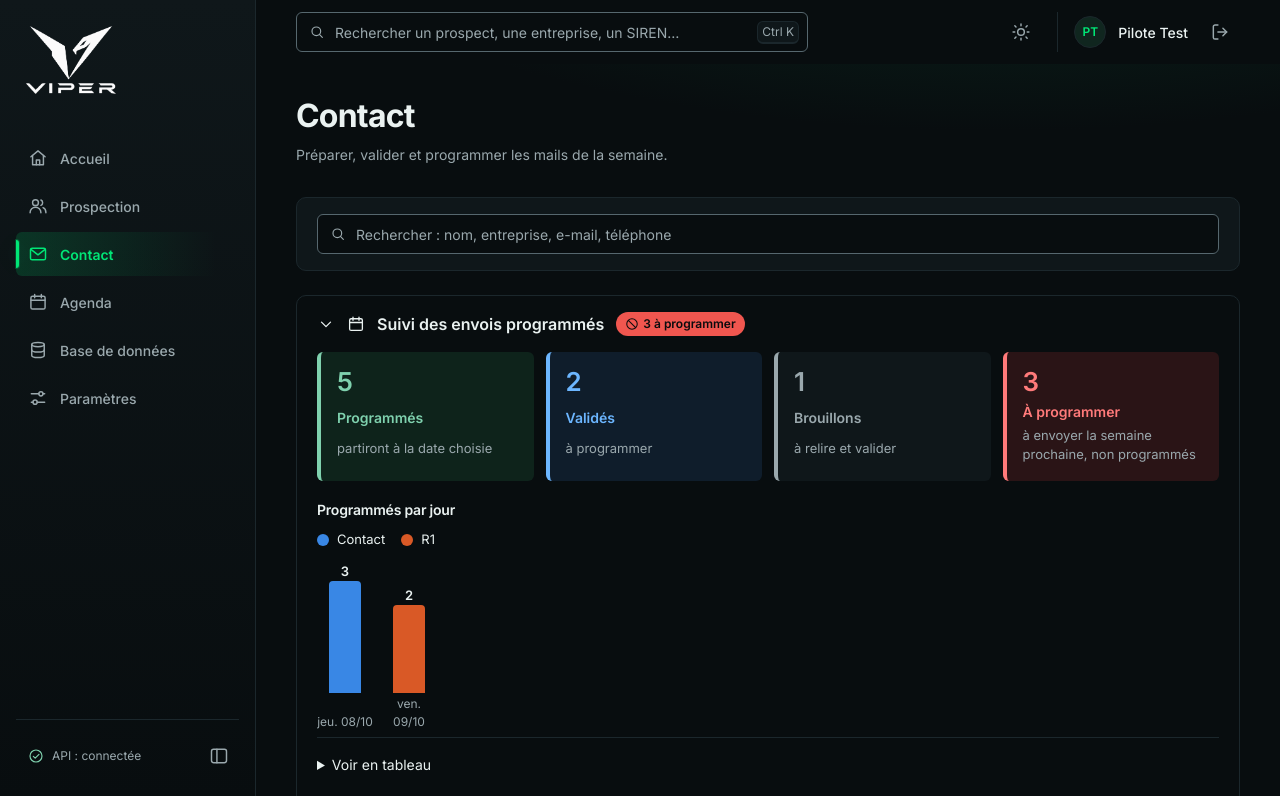
Test: Contact › Suivi des envois programmés › counts what is scheduled, validated and in draft, by step and by day, and names who was forgotten
Check: the text "3 à programmer" is shown, box [616,312,745,336]
Check: the text "5" is shown, box [337,366,353,397]
Click the button "À programmer" at (1111, 416), box [1002,352,1219,481]
(page scrolled)
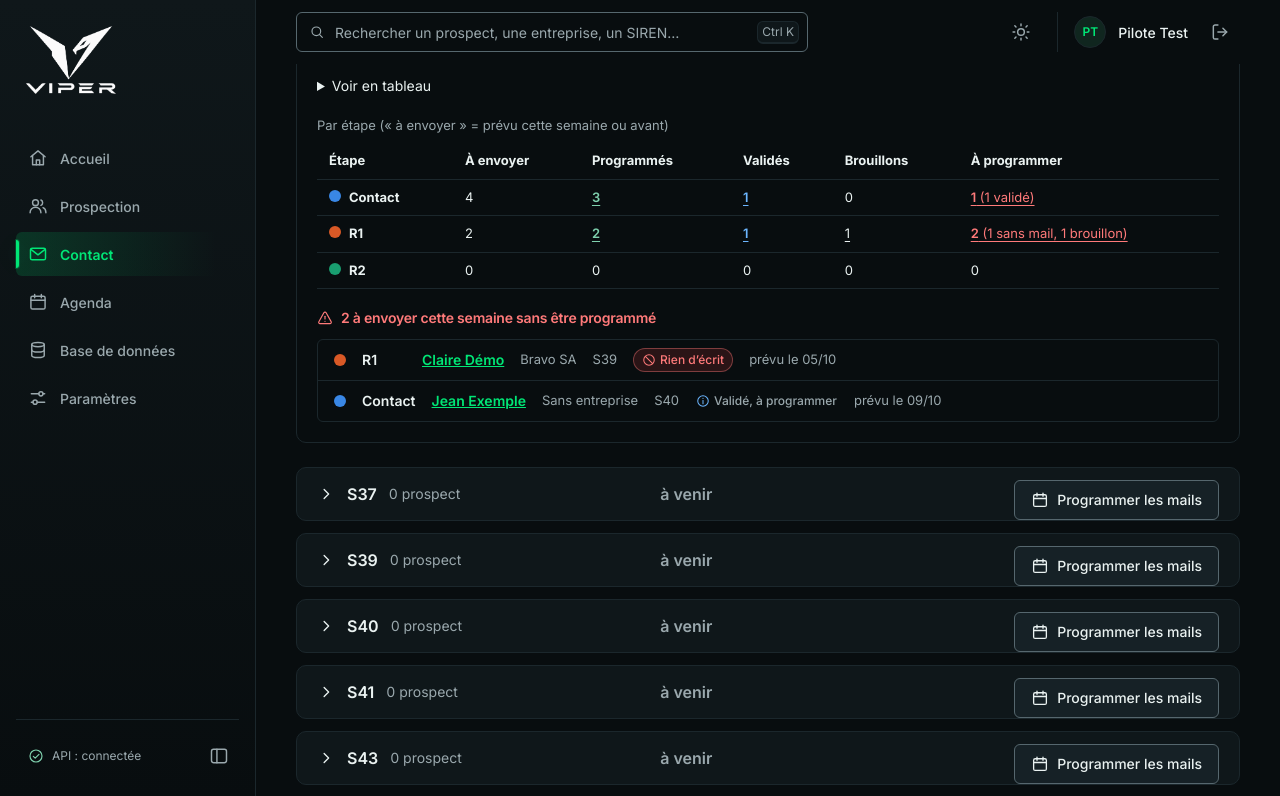
Check: the text "Rien d’écrit" is shown, box [633,348,733,372]
Check: the text "Validé, à programmer" is shown, box [695,389,838,413]
Check: the text "prévu le 05/10" is shown, box [749,350,836,369]
